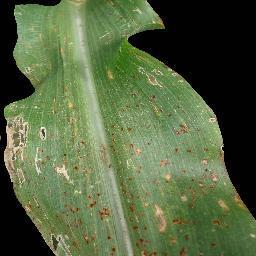Corn_Common_Rust: (125, 79, 256, 256), (2, 64, 78, 256), (78, 137, 124, 256), (122, 0, 185, 78), (108, 115, 124, 137), (106, 64, 115, 81)
